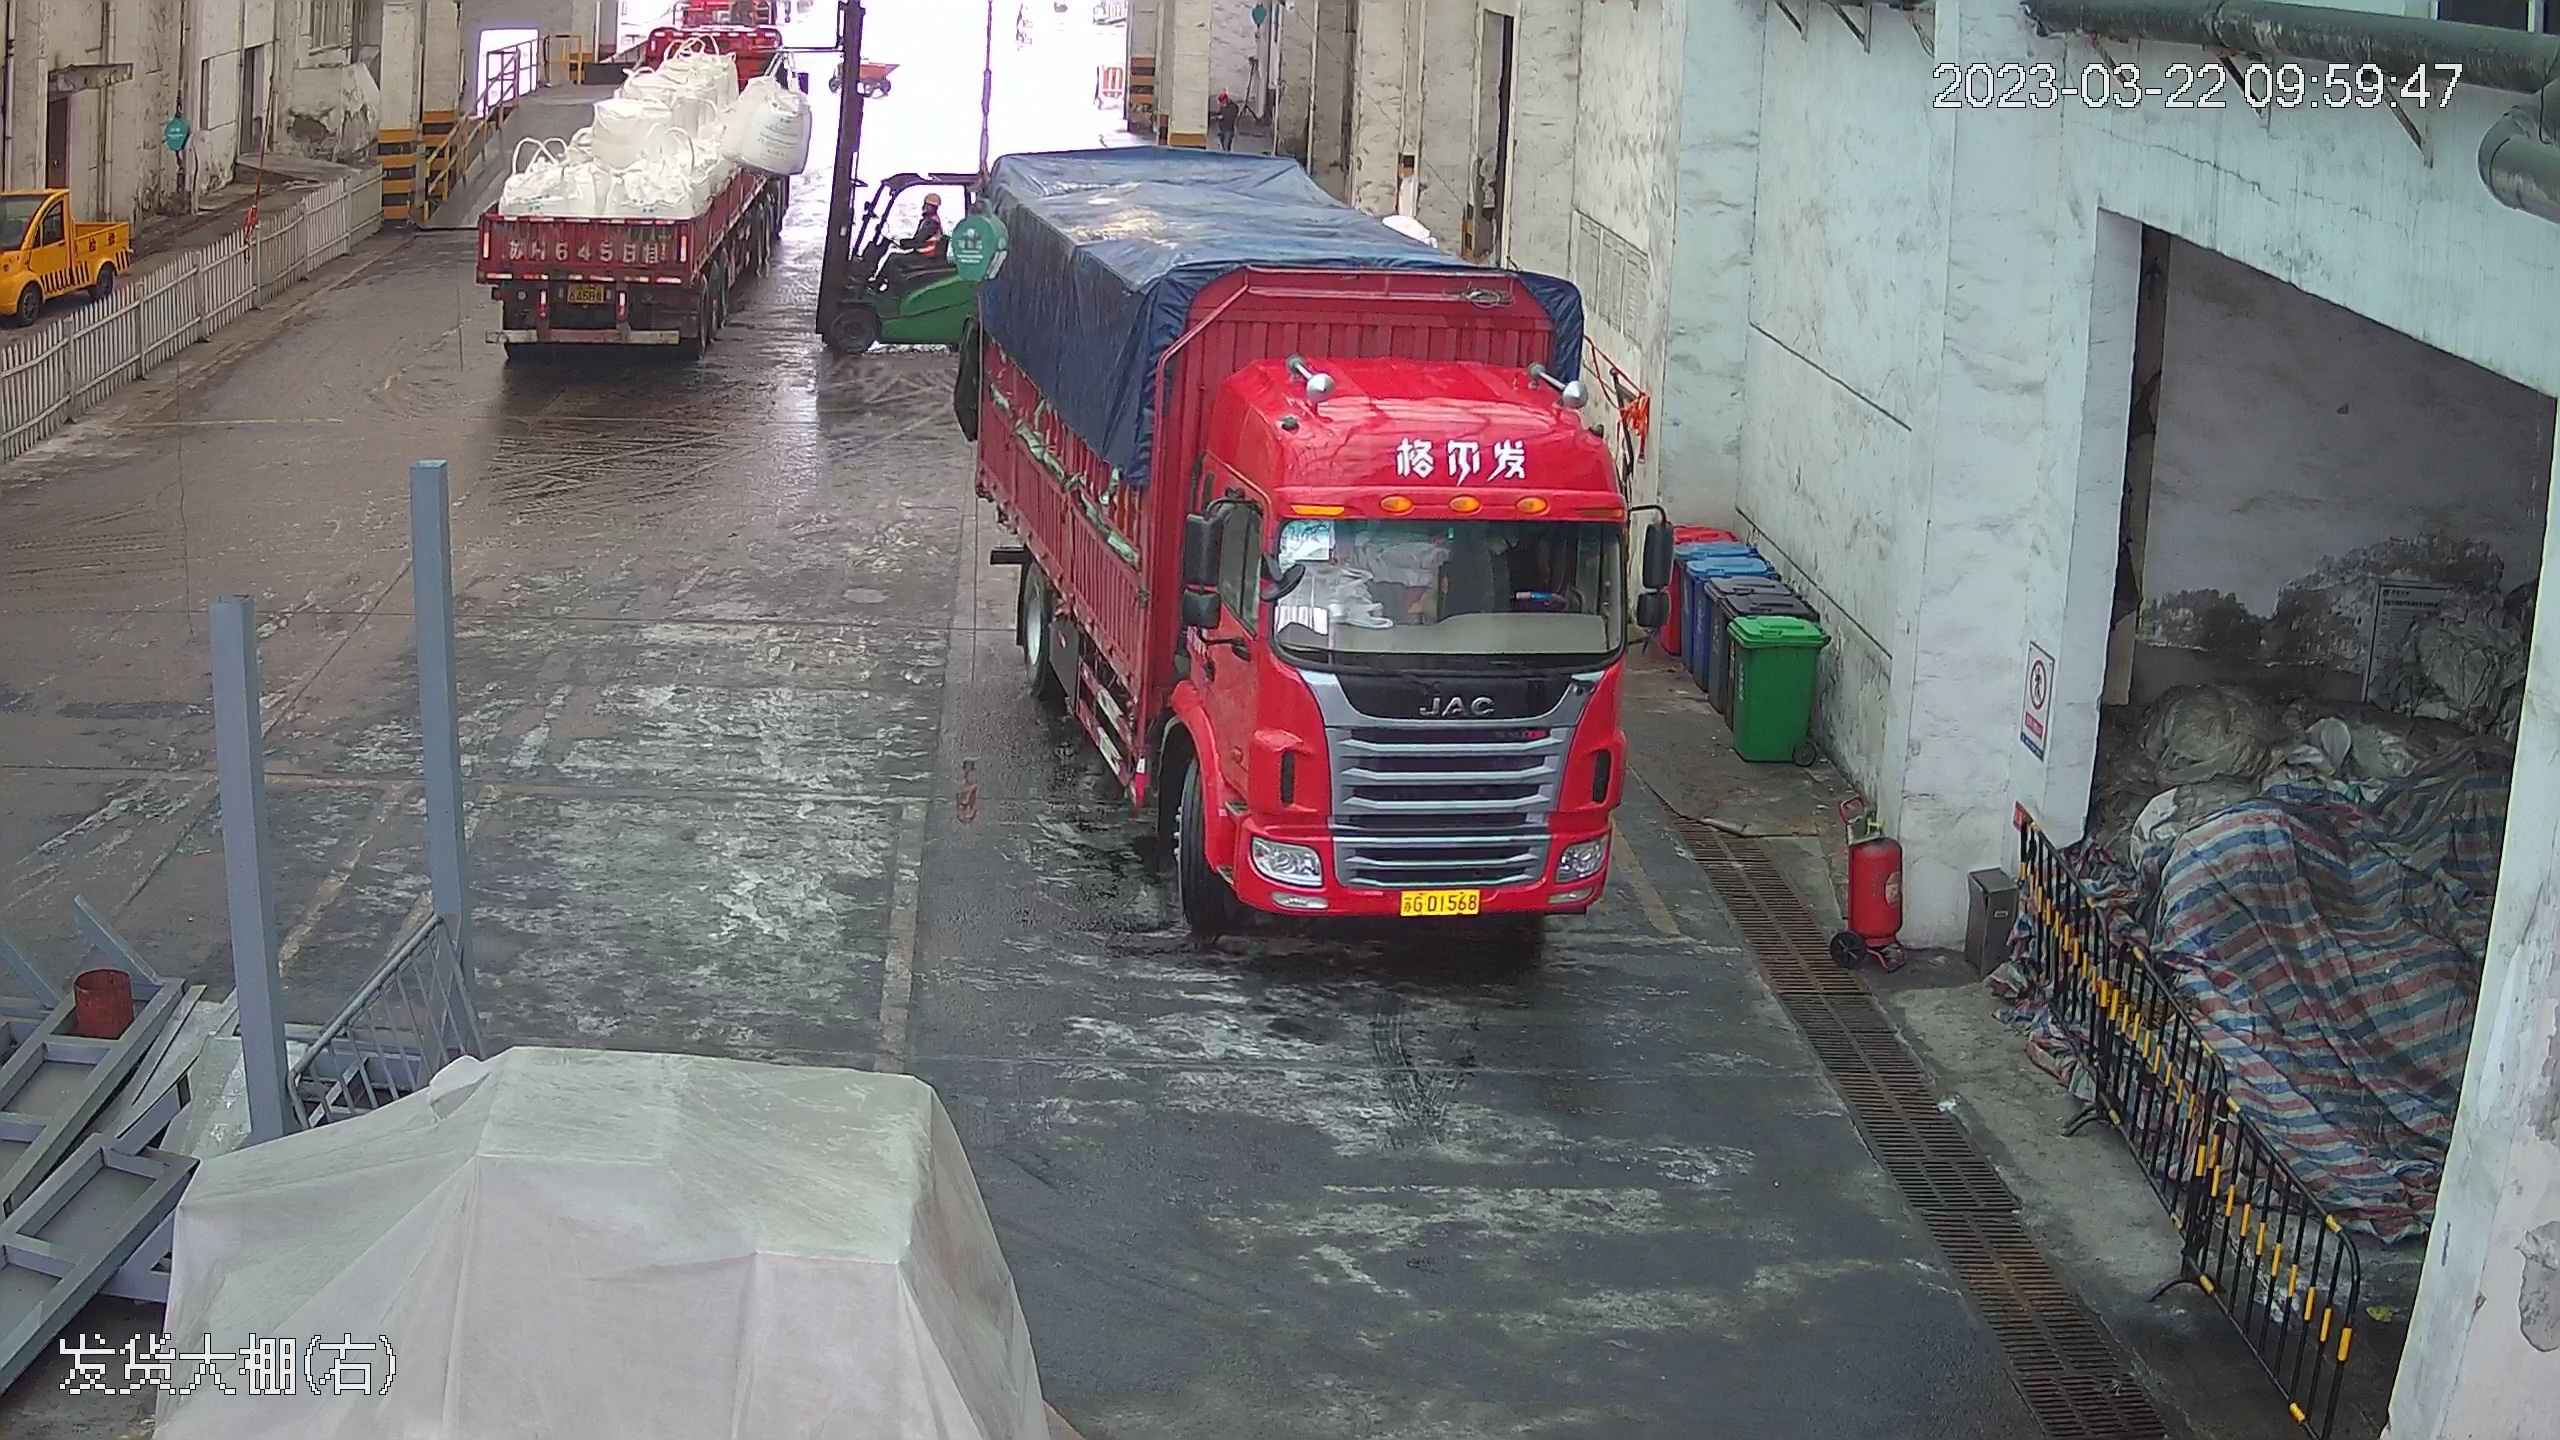head: (912, 181, 945, 227)
helmet: (923, 191, 941, 208)
people: (889, 182, 942, 271)
truck: (968, 154, 1682, 947), (465, 1, 810, 351)
